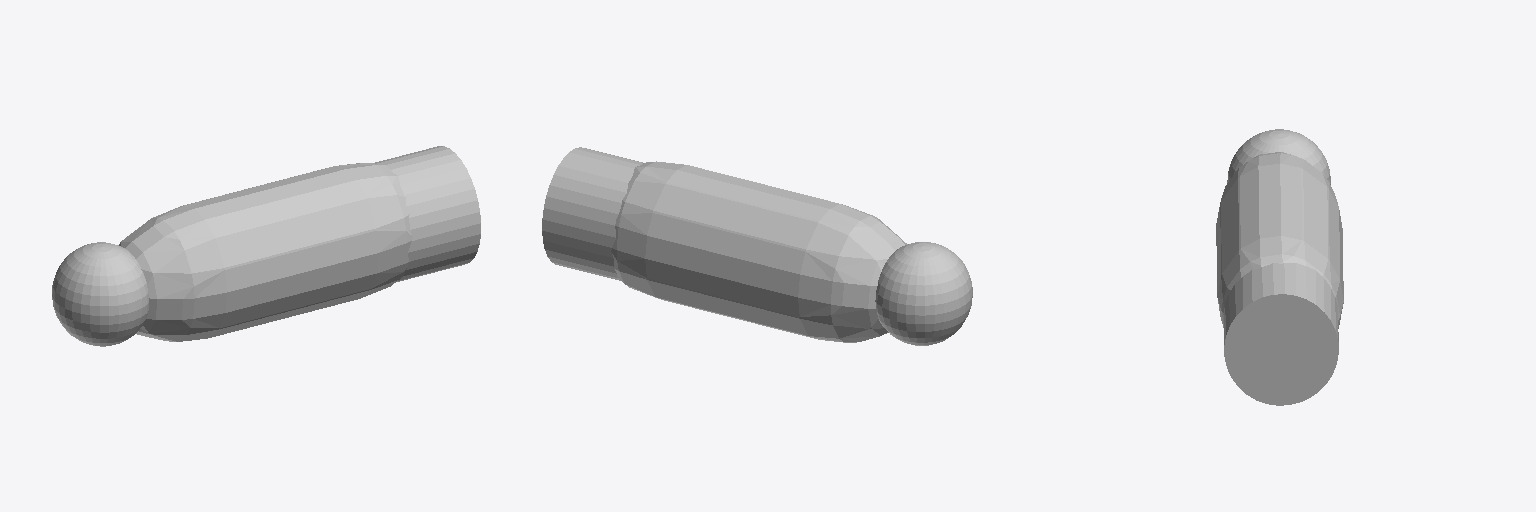
File: dauber.obj
3 views of the same model, side by side, from view 1: azimuth 30°, elevation 25°; view 2: azimuth 150°, elevation 25°; view 3: azimuth 270°, elevation 25° (orthographic).
Parts seen in each view (by area): view 1: Mball_Mball.001, Cylinder, Sphere; view 2: Mball_Mball.001, Cylinder, Sphere; view 3: Cylinder, Mball_Mball.001, Sphere.
Part boxes in pixels (left/top/right/bottom): Mball_Mball.001: left=119, top=163, right=412, bottom=341; Cylinder: left=375, top=146, right=480, bottom=281; Sphere: left=52, top=242, right=148, bottom=346; Mball_Mball.001: left=611, top=161, right=907, bottom=342; Cylinder: left=542, top=147, right=642, bottom=280; Sphere: left=875, top=242, right=972, bottom=345; Cylinder: left=1223, top=263, right=1338, bottom=405; Mball_Mball.001: left=1216, top=152, right=1343, bottom=328; Sphere: left=1227, top=129, right=1330, bottom=184.
Size of the model in its own units: 6.93 by 2.16 by 1.94.